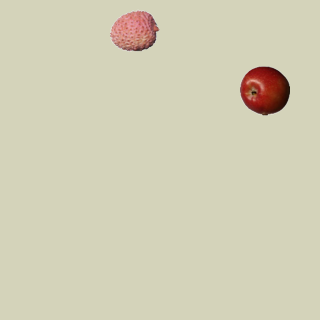Apple Braeburn: (239, 65, 289, 115)
Lychee: (109, 5, 159, 55)
